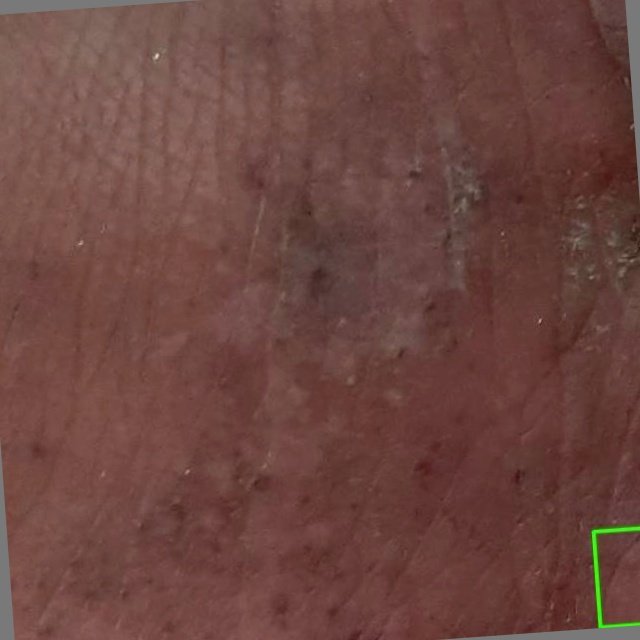Eczema: (593, 528, 639, 627)
